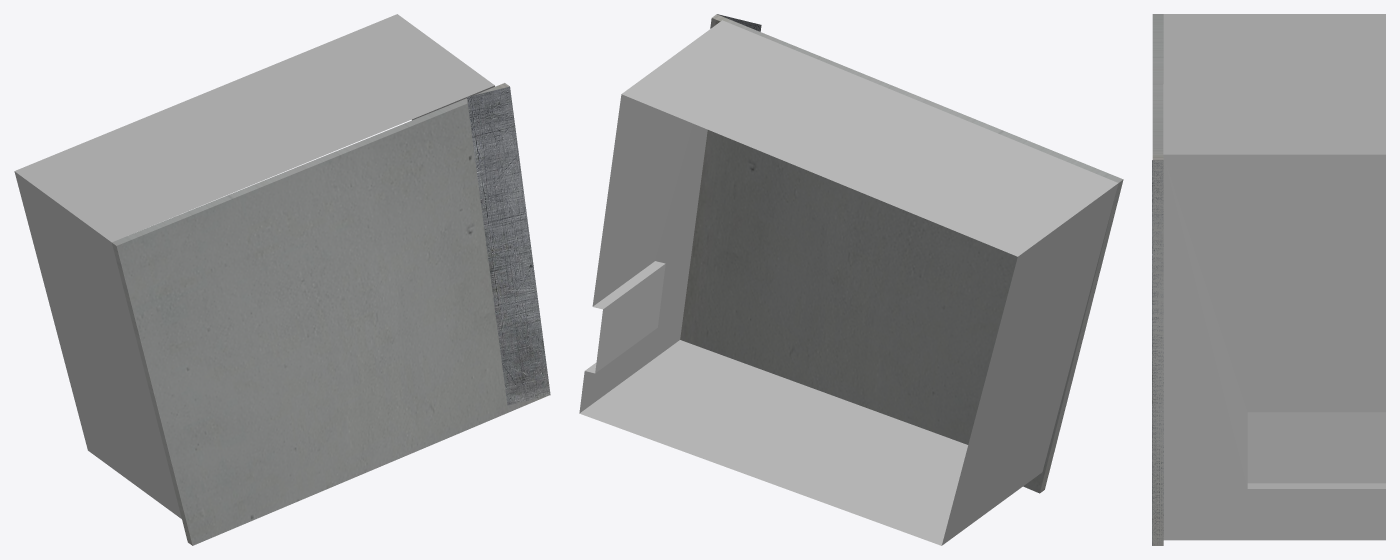
The model's file is nunne-3-origo.obj.
3 renders of one model, left to right at view 1: azimuth 30°, elevation 25°; view 2: azimuth 150°, elevation 25°; view 3: azimuth 270°, elevation 25°, orthographic. The views are drawn at different scales.
Parts seen in each view (by area): view 1: Nunne_3; view 2: Nunne_3; view 3: Nunne_3.
Boxes of the visible parts, x1,y1,x2,y2 form: Nunne_3: [14, 14, 550, 545]; Nunne_3: [579, 14, 1123, 545]; Nunne_3: [1152, 14, 1385, 545].
Bounding box in the file's own units: 10.69 × 9 × 4.37.
